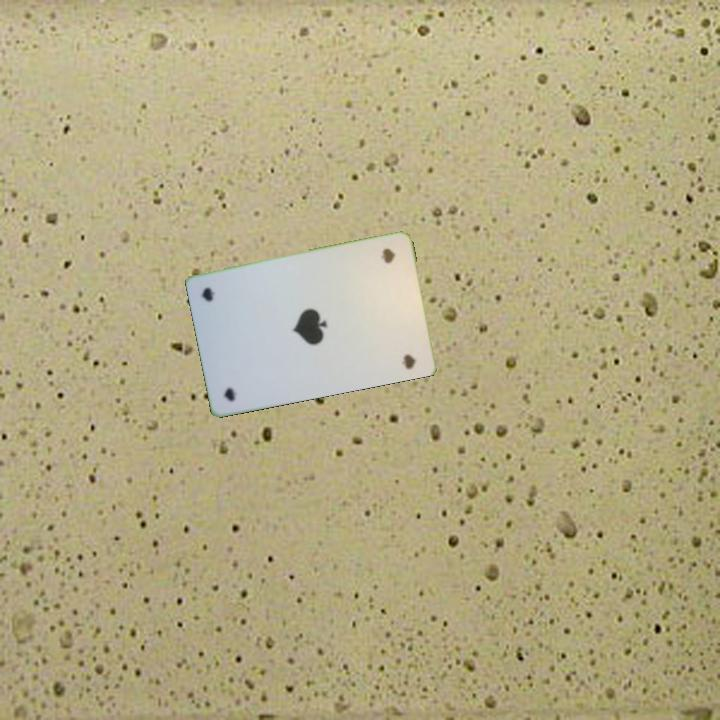s_a.png: (207, 331, 276, 407), (346, 241, 415, 317)
